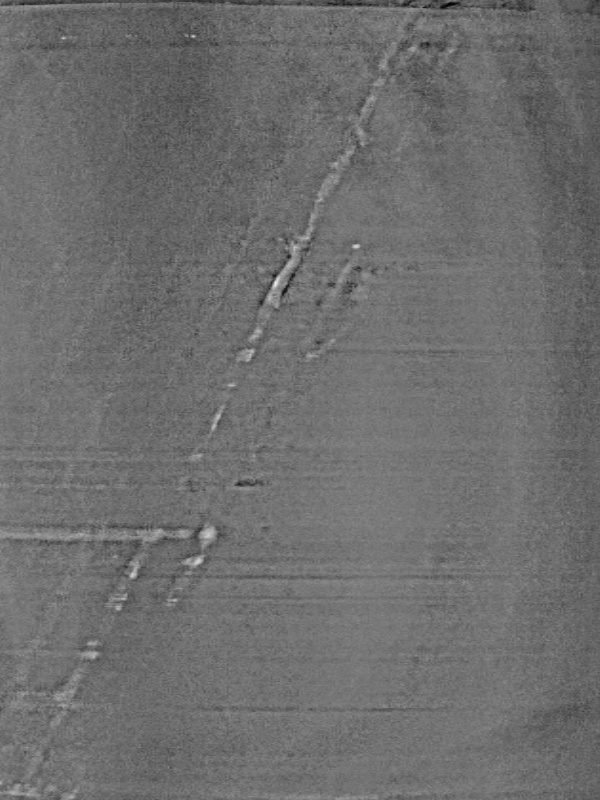splice_vulcanized: (2, 10, 464, 800)
